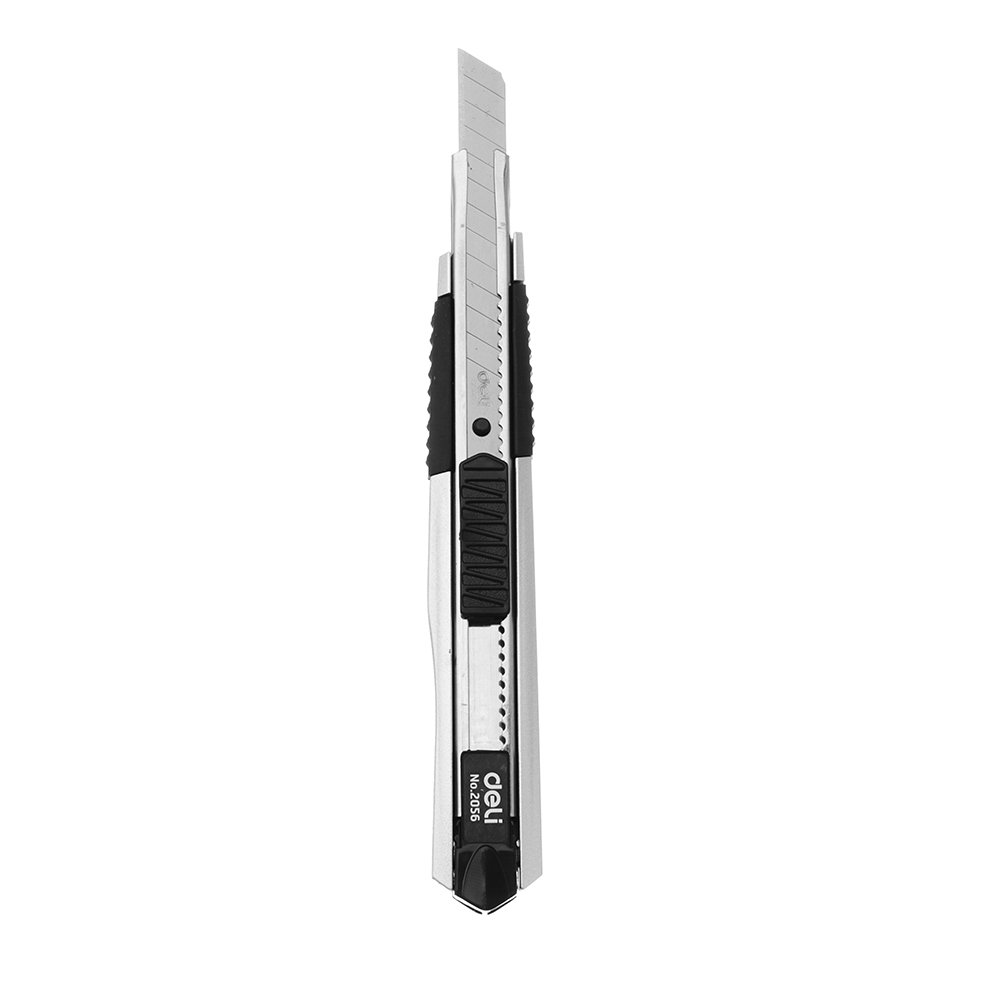knief: (403, 31, 623, 928)
